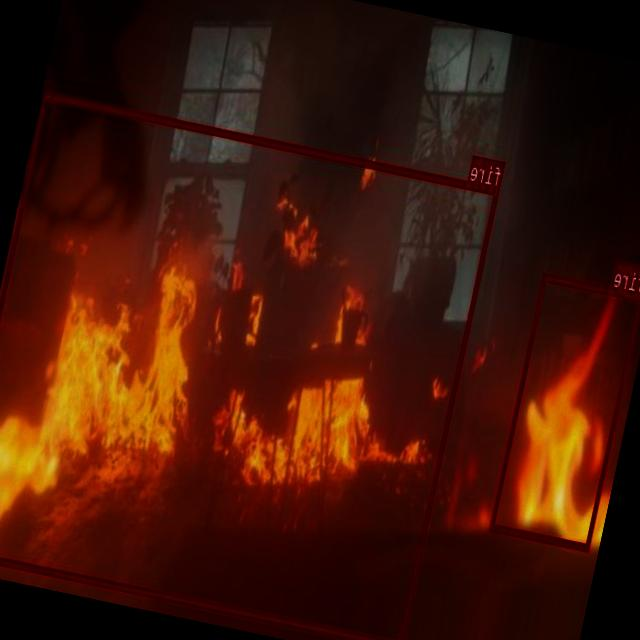fire: (0, 90, 500, 640), (489, 271, 640, 550)
